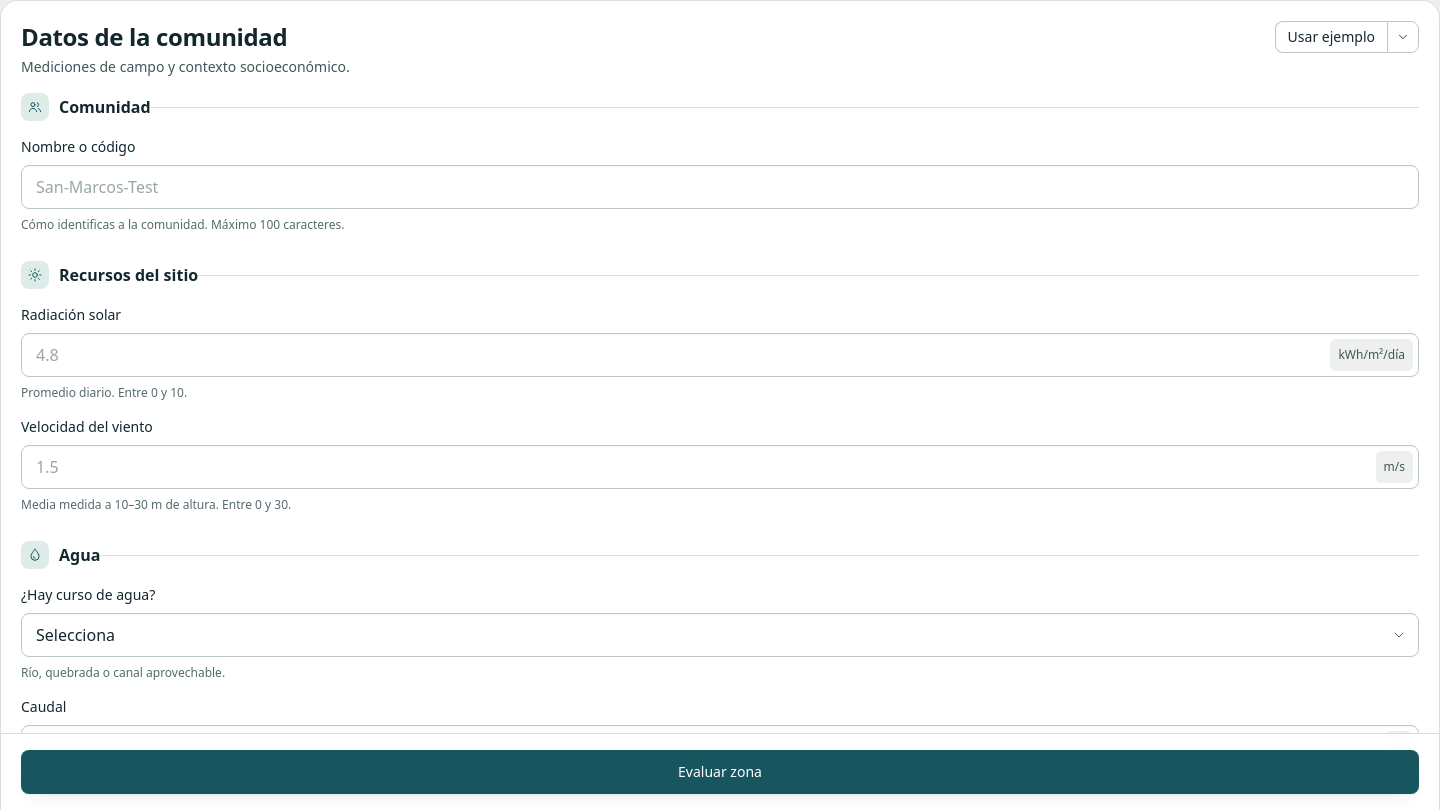
Test: EvaluacionForm › muestra un mensaje de rango cuando el valor está fuera de límites
The width and height of the screenshot is (1440, 810).
In the number field labelled "Radiación solar": (720, 355) [21,333,1419,377], type "11"
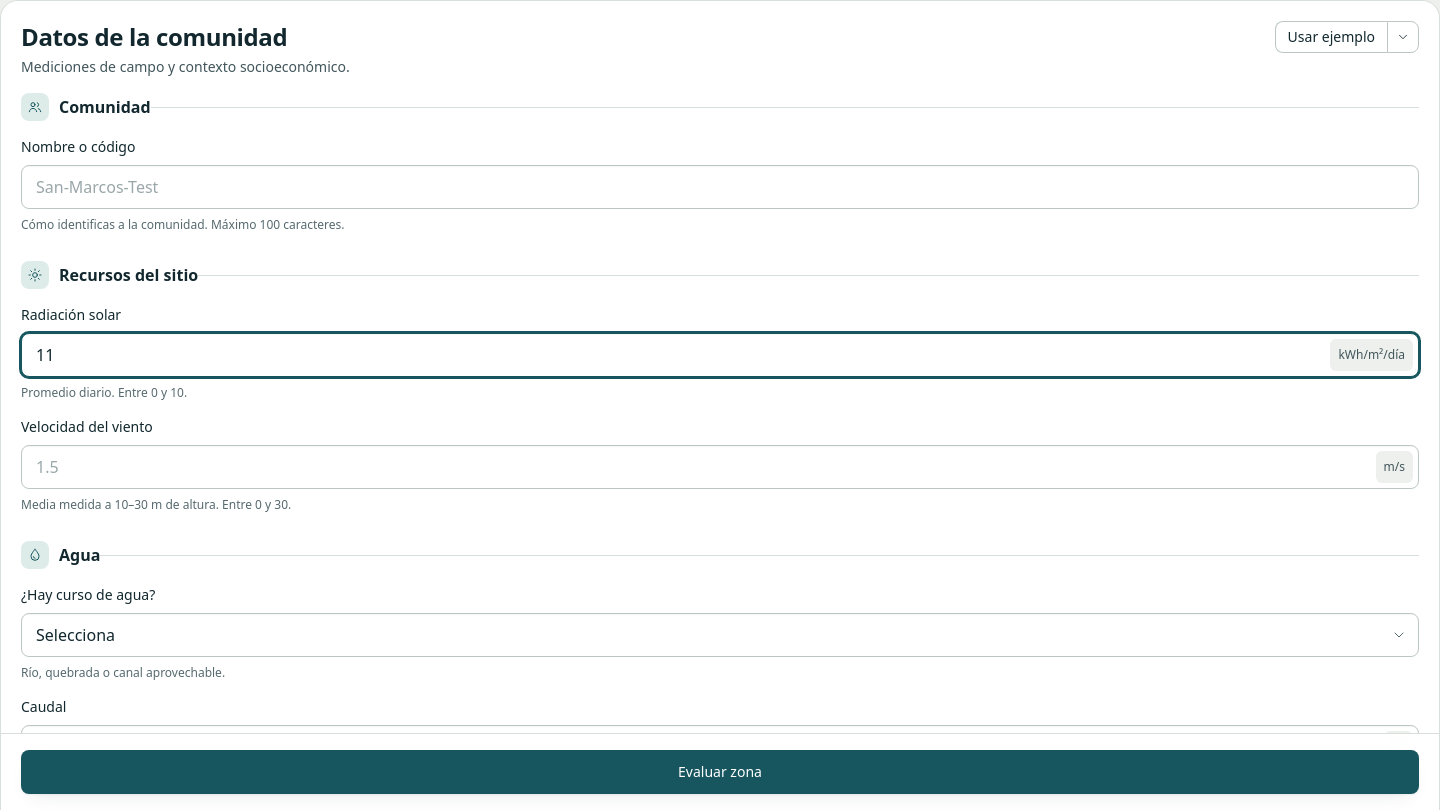
Click the button "Evaluar zona": click(720, 772) [21,750,1419,794]
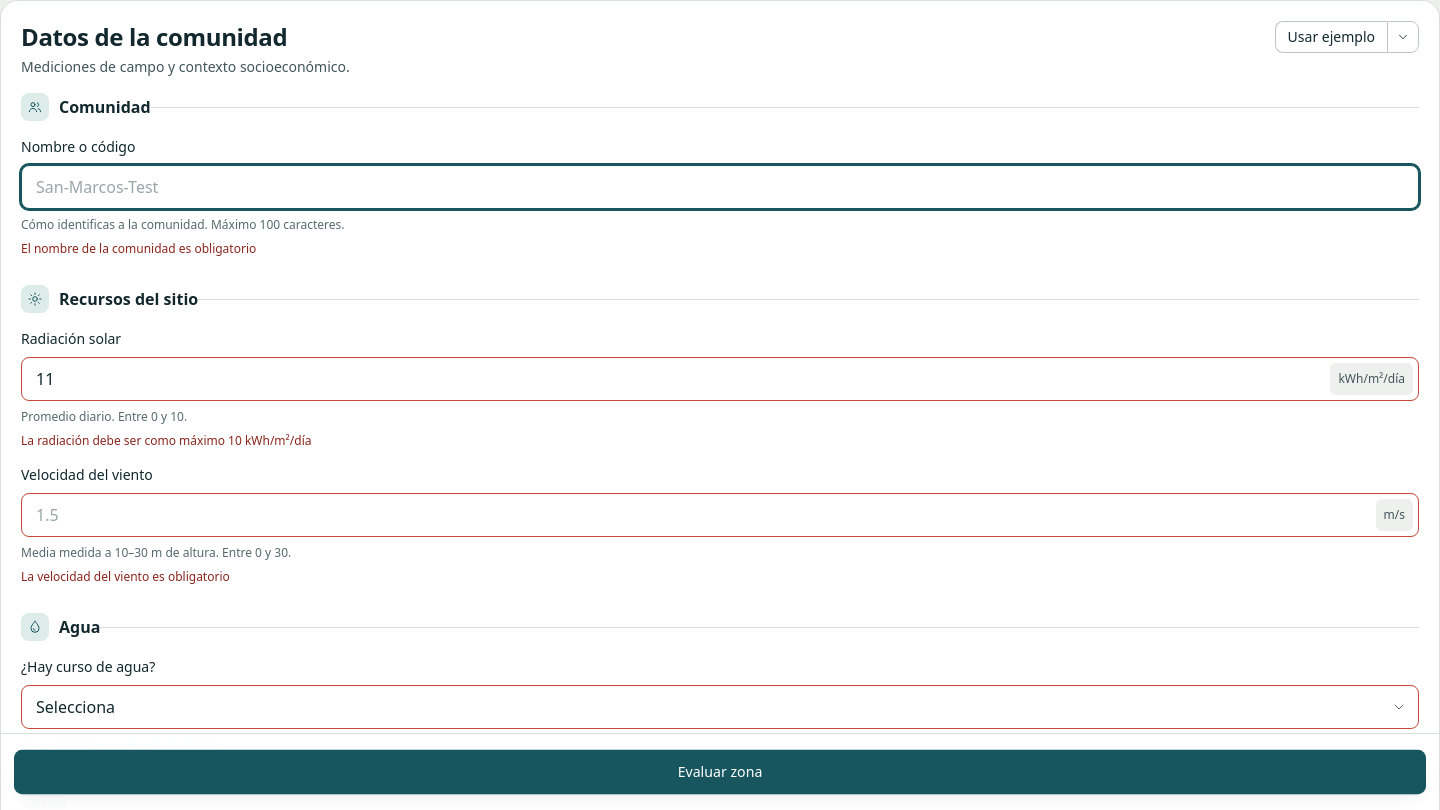
Now the text "La radiación debe ser como máximo 10 kWh/m²/día" is shown, box [21,432,312,449]
